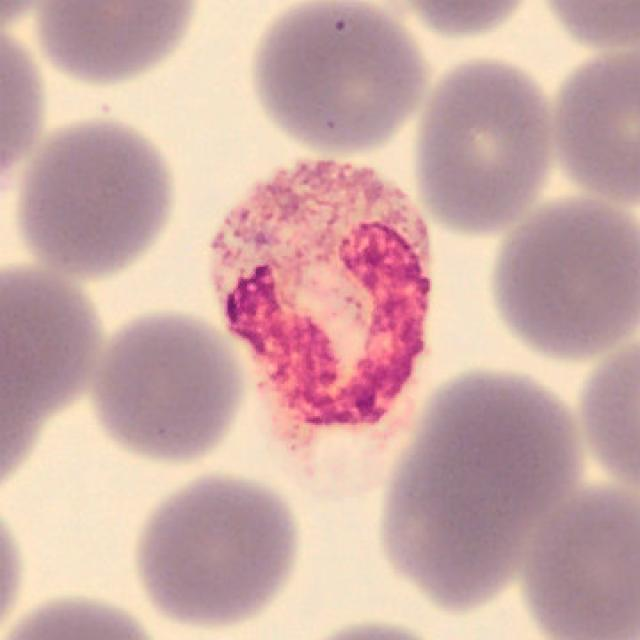Neutrofilo segmentado: (208, 165, 432, 448)
